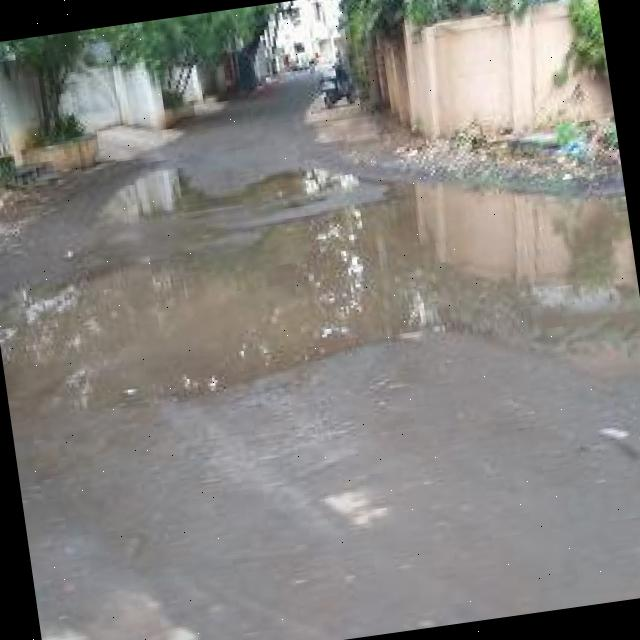stagnation: (0, 232, 371, 423), (89, 146, 338, 240)
